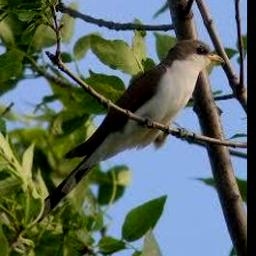Cuckoo: (32, 40, 226, 225)
